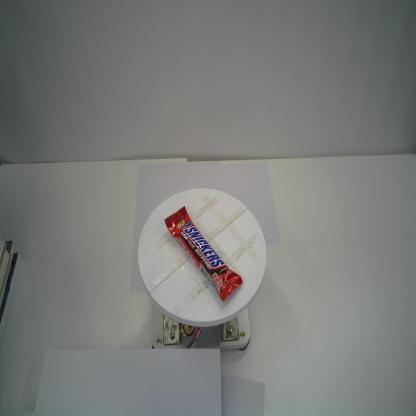Chocolate: (164, 206, 243, 302)
